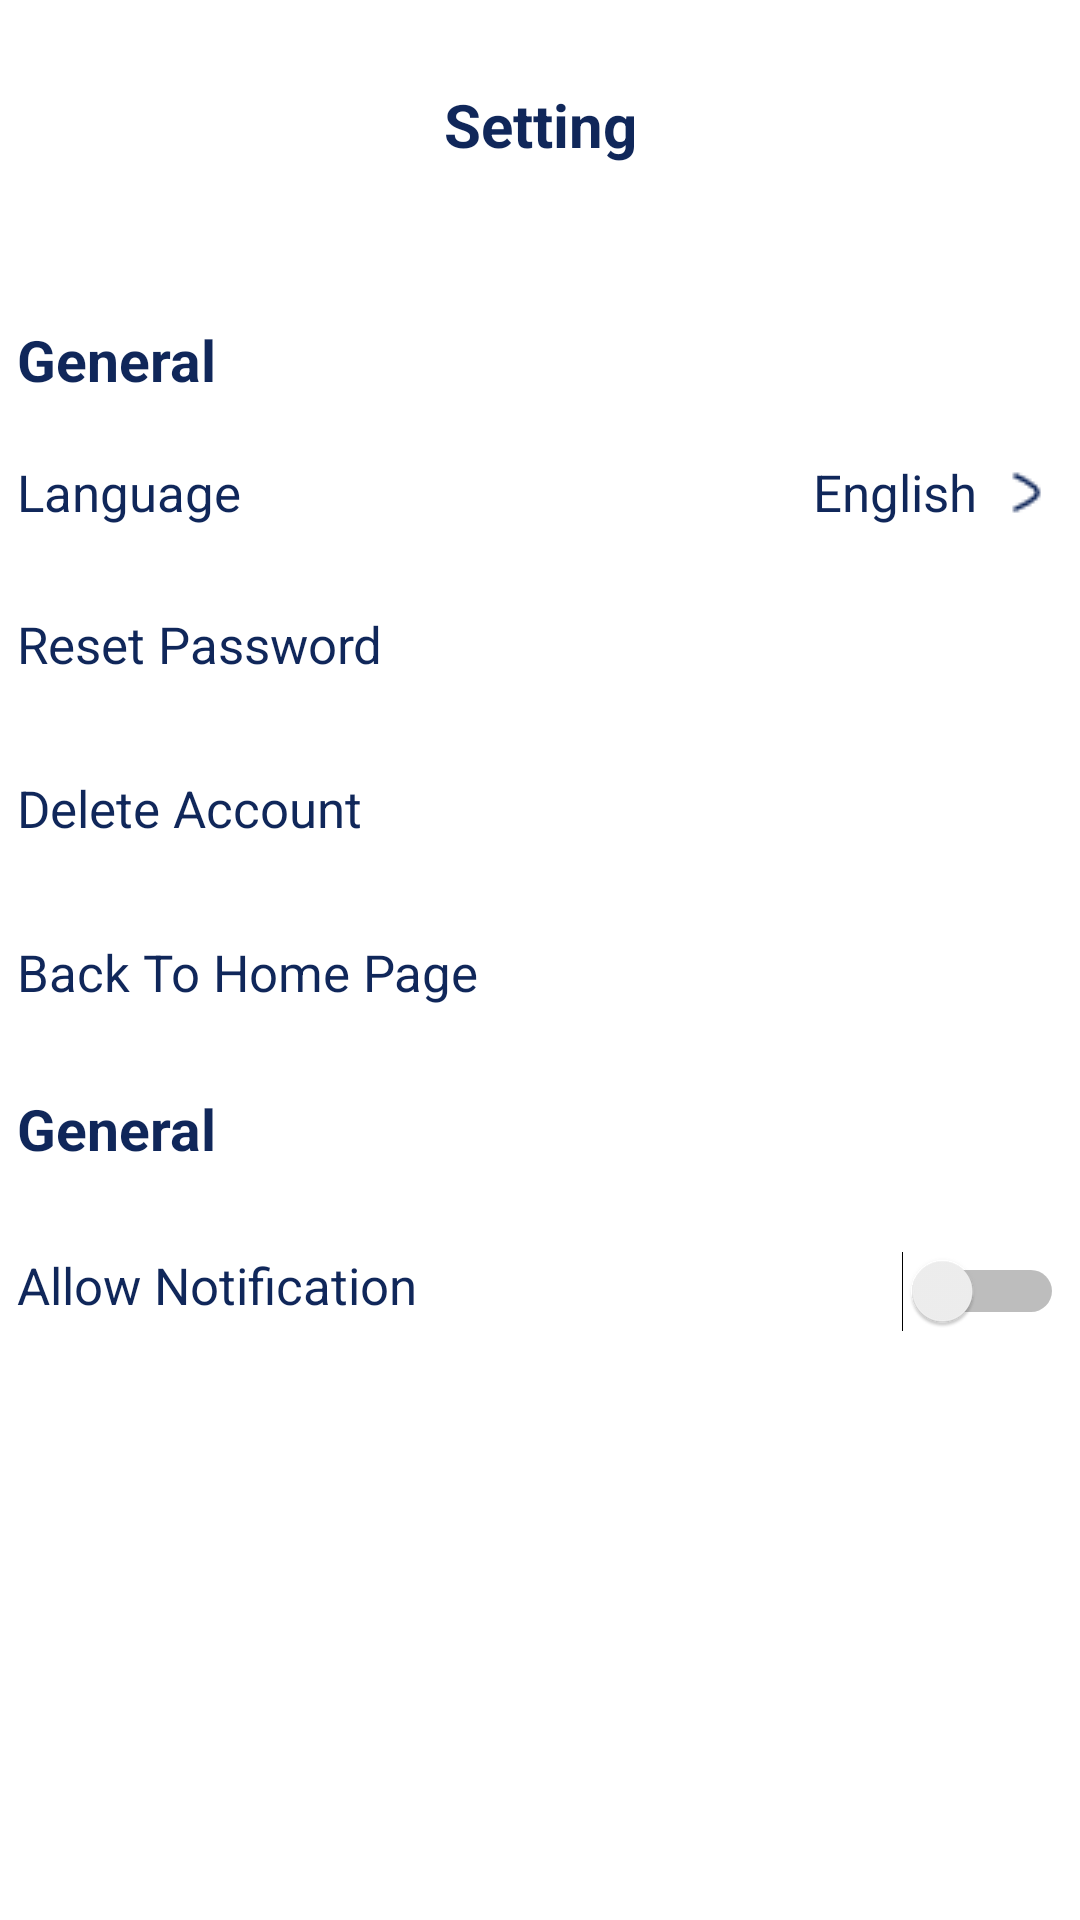

Where to tap for icons on this 1080 x 1920 app screen, as point (x, y):
arrow right: point (1026, 492)
